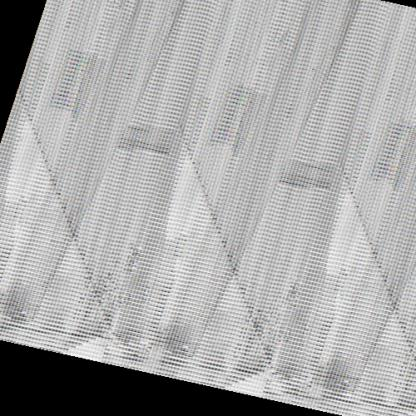Damage: (44, 38, 106, 144), (276, 154, 364, 204)
